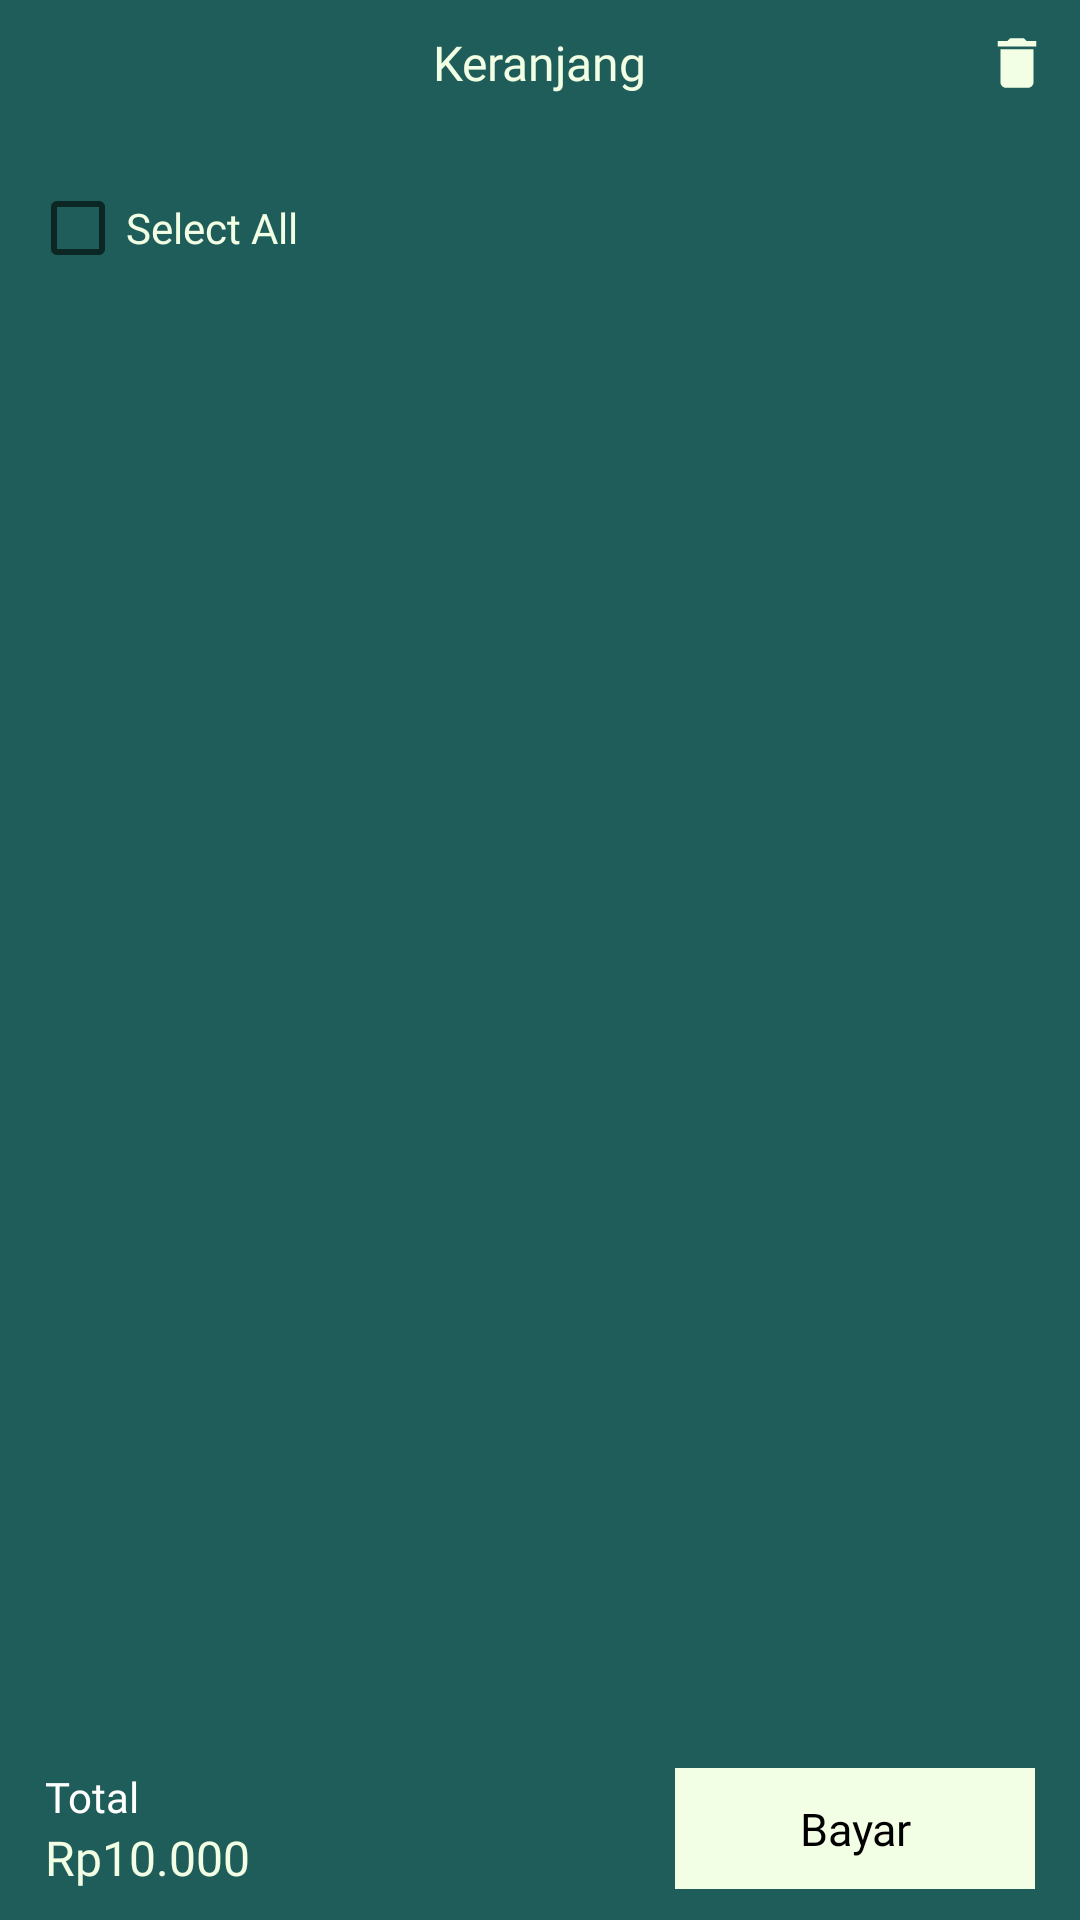

Icons on this 1080 x 1920 Android screen, each with the point to tap as [x,y]:
delete: [1017,63]
